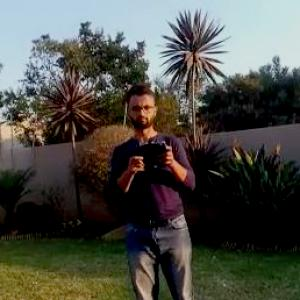follow: (105, 75, 207, 299)
